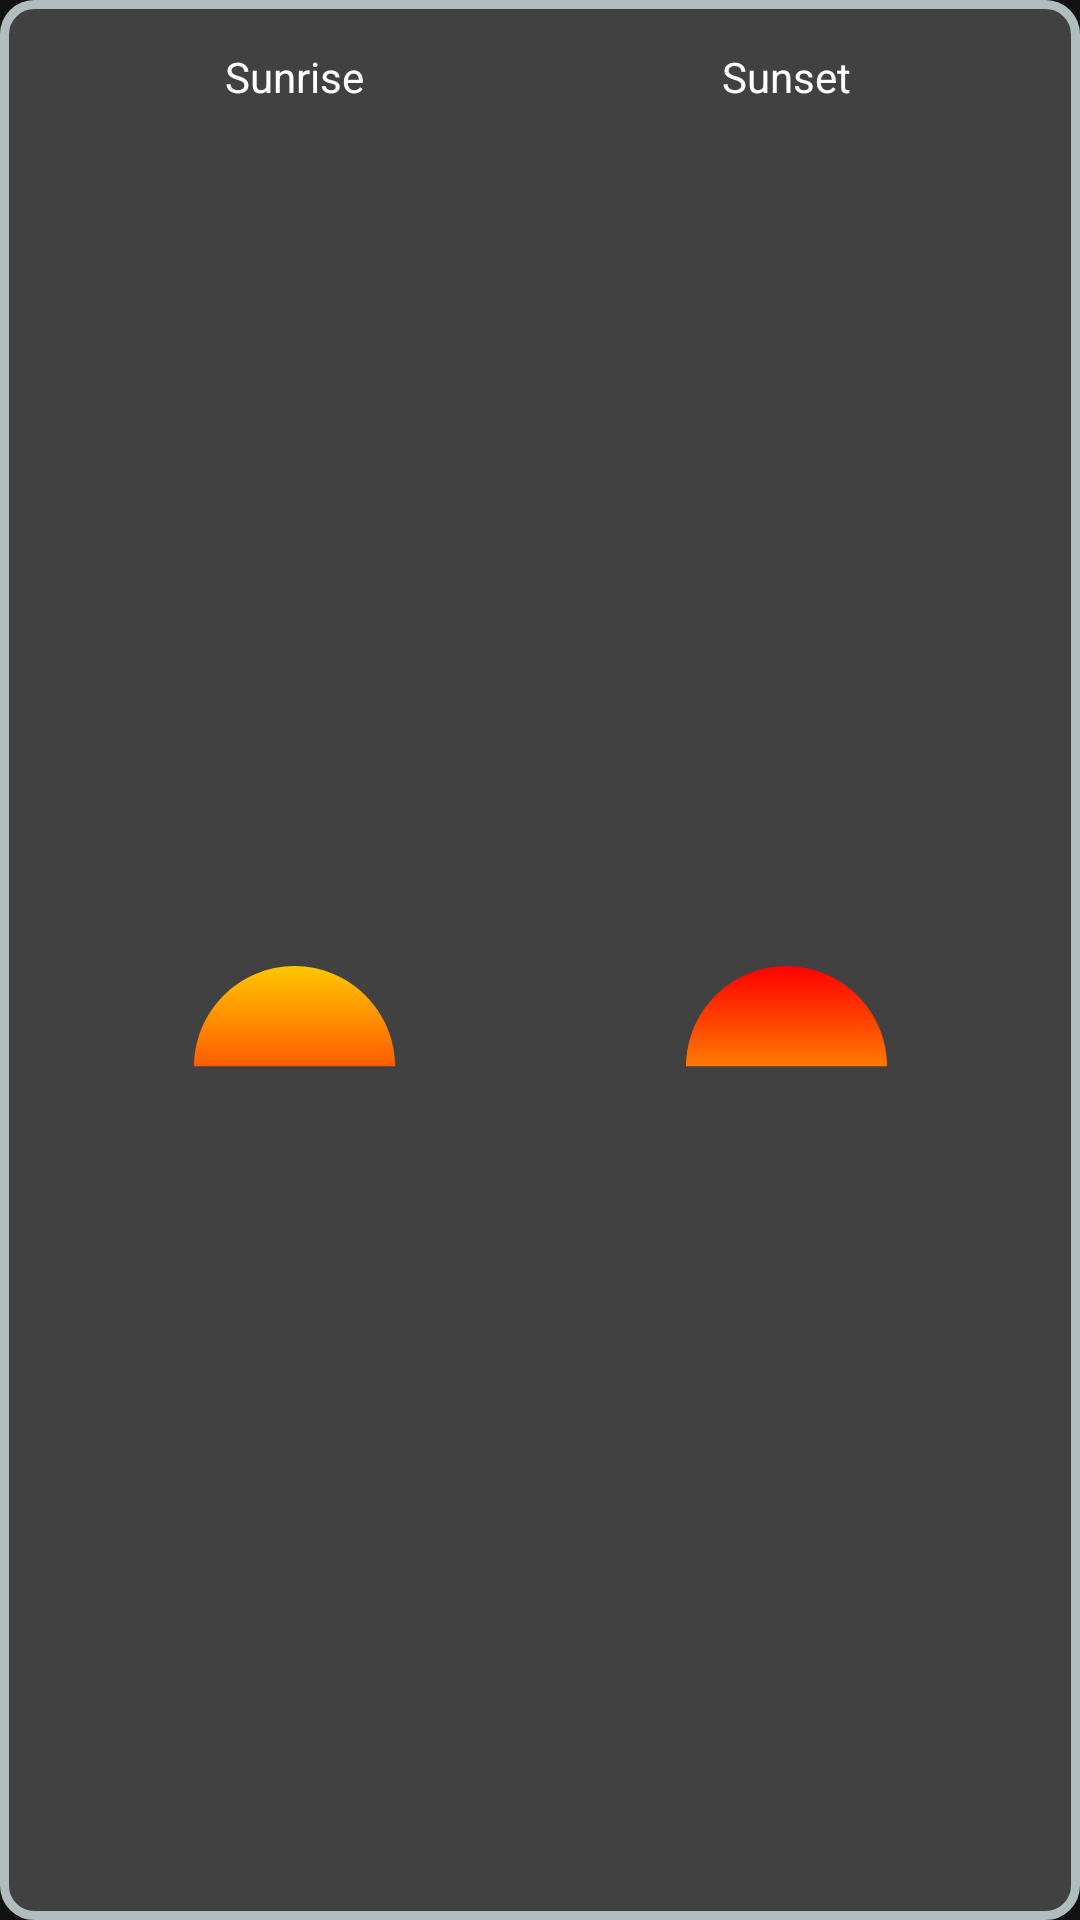

Icon bounding boxes for this 1080px×1920px phone screenshot, format rect(x1, y1, x2, y2):
sunrise: rect(194, 966, 395, 1067)
sunset: rect(686, 966, 887, 1067)
